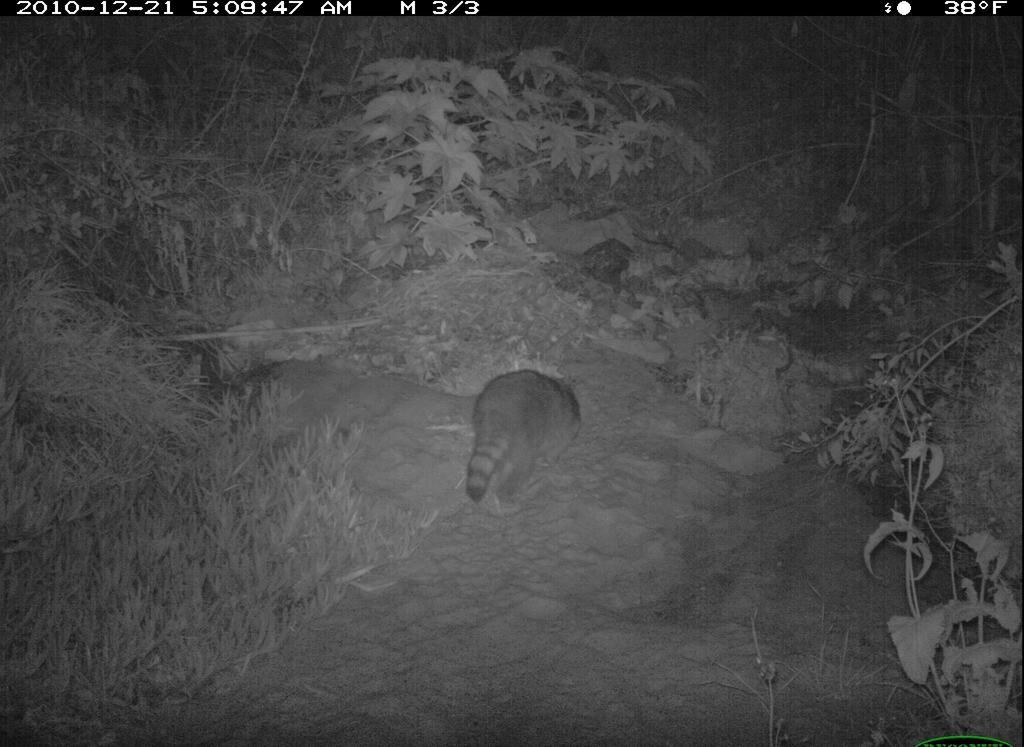raccoon: (454, 356, 588, 524)
